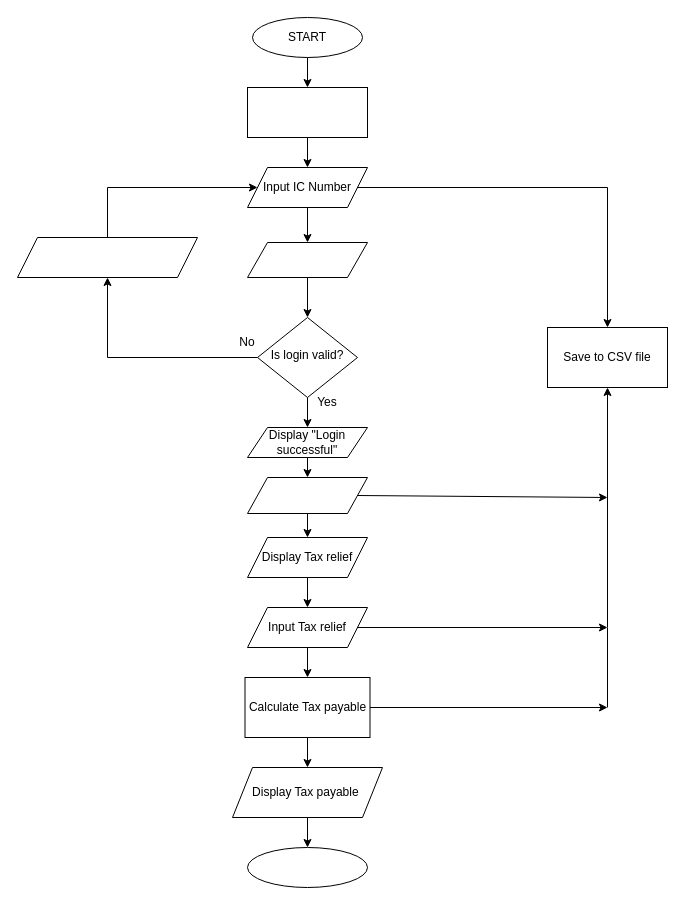
This 685x905 diagram has some shape labels left out. The shapes that lost their labels are listed below. From the top down, each one's centre as x and y in pixels, then its label:
point 307,112: Display "Welcome to tax calculator"
point 107,257: Display "Login failed. Try again. "
point 307,260: Input Password
point 307,495: Input Income
point 307,867: END
